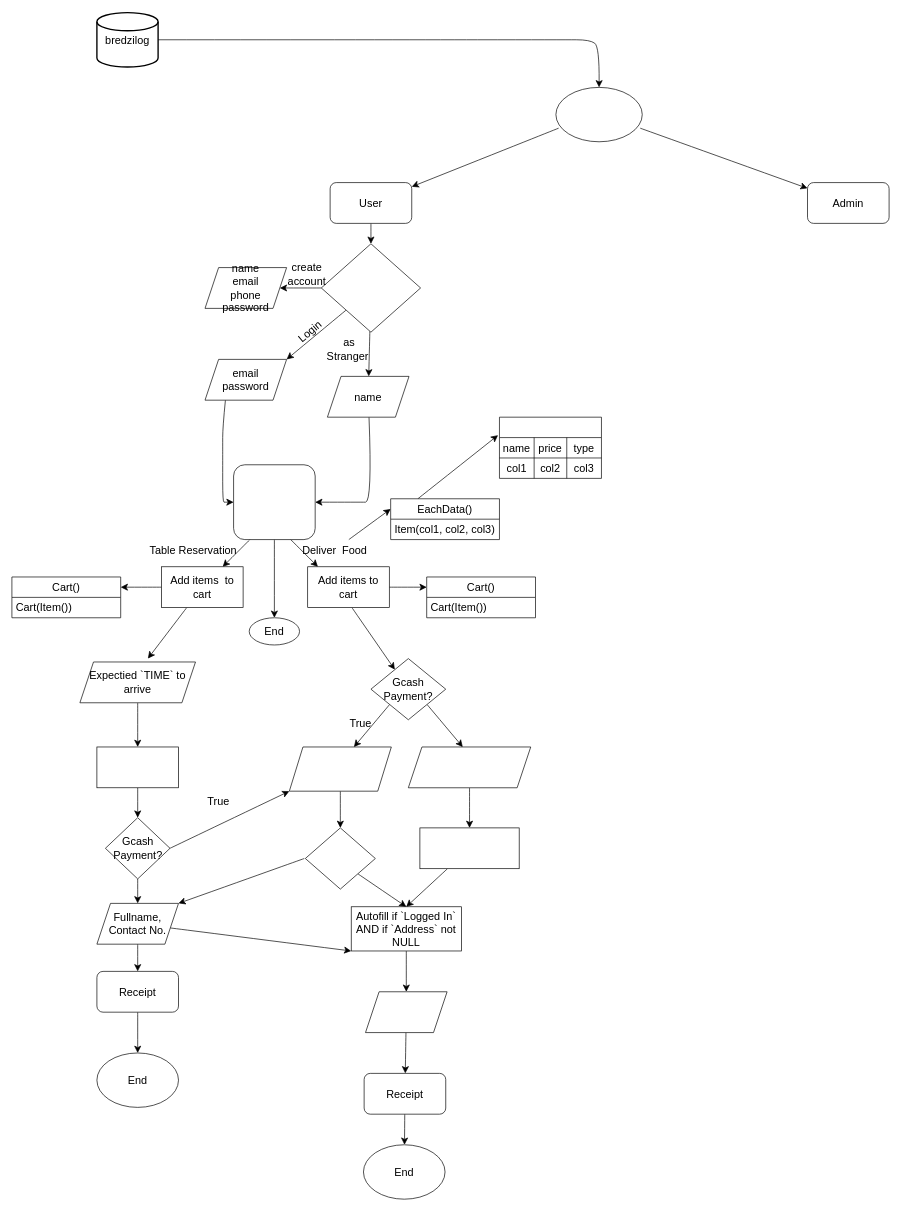
Image size: 901x1211. Some labels were removed from this diagram. Here are the shapes that lost their labels. From the top down, the box of each, then its label:
(555, 87, 642, 142): Start/Index
(321, 243, 421, 332): Login or Create Account or Stranger?
(499, 417, 601, 478): menu
(233, 464, 315, 540): (Table Reservation), (Deliver Food), (Logout), (Settings)
(96, 746, 178, 788): Process Food 10 minutes before arrival
(289, 746, 391, 791): `REFERRENCE NUMBER`
(408, 746, 531, 788): Expected `CASH` to pay COD payment
(305, 827, 375, 889): Verify Reference Number
(419, 827, 519, 869): Return `Total`, `Change`. Redirect if `Short`
(365, 991, 447, 1033): Address, Fullname, Contact No.
